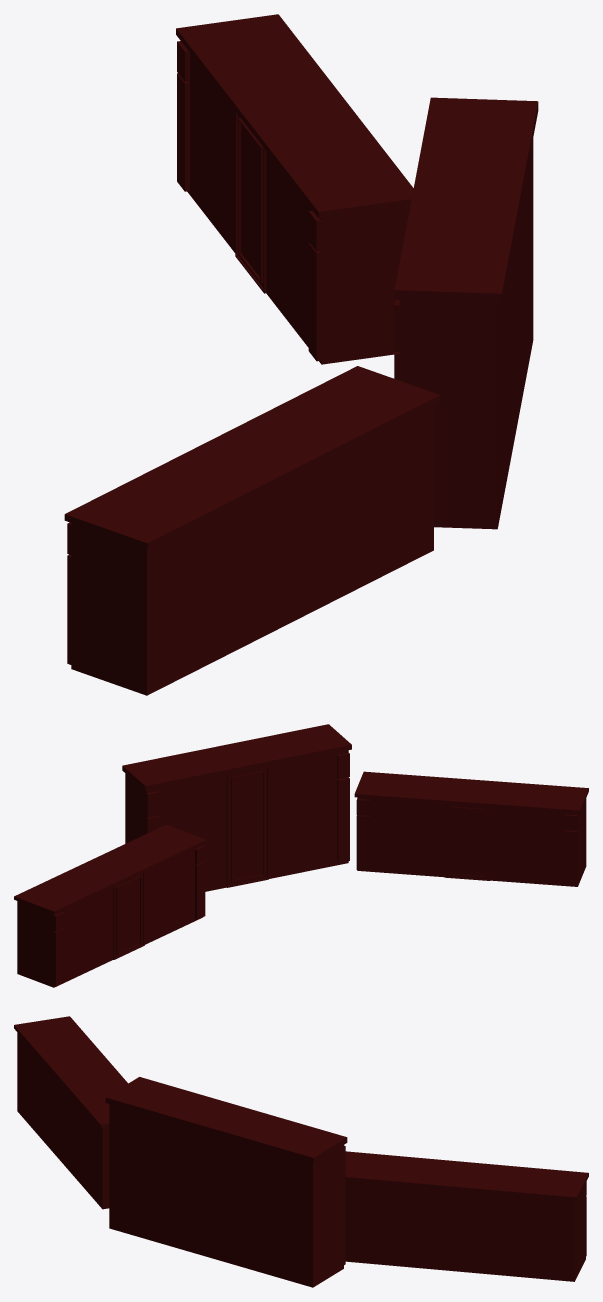
Rendered from taburete corte.fbx.
3 views of the same model, one above another, from view 1: azimuth 30°, elevation 25°; view 2: azimuth 150°, elevation 25°; view 3: azimuth 270°, elevation 25° (orthographic). The views are drawn at different scales.
Visible parts, largest first — view 1: Box021, Box020, Box005; view 2: Box005, Box021, Box020; view 3: Box005, Box020, Box021.
Part boxes in pixels (x1,y1,x2,y2): Box021: [64, 366, 440, 695]; Box020: [176, 14, 413, 364]; Box005: [394, 97, 538, 529]; Box005: [122, 724, 351, 891]; Box021: [354, 771, 588, 886]; Box020: [14, 824, 206, 987]; Box005: [105, 1077, 347, 1287]; Box020: [344, 1151, 588, 1281]; Box021: [14, 1016, 127, 1209].
Size of the model in its own units: 391 by 128 by 508.
